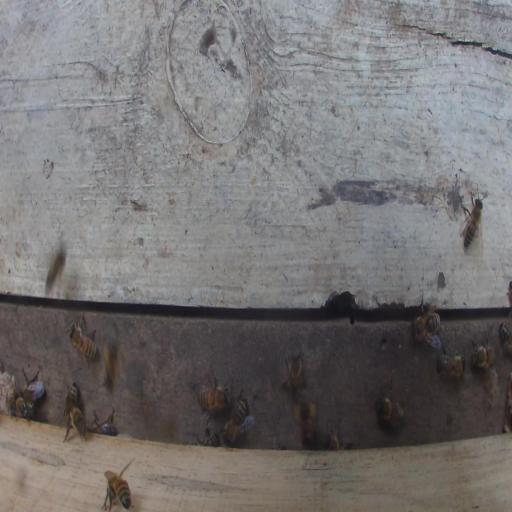nonpollenbee: (44, 239, 66, 295), (69, 322, 100, 361), (224, 396, 246, 448), (197, 384, 231, 415), (103, 473, 131, 510), (465, 197, 483, 250), (63, 405, 85, 443), (377, 397, 404, 424), (436, 354, 464, 379), (288, 350, 302, 400), (412, 313, 441, 335), (9, 396, 35, 419), (19, 381, 44, 402), (65, 383, 78, 422), (474, 345, 495, 367), (500, 322, 512, 358), (91, 423, 118, 435), (200, 432, 218, 448), (326, 432, 339, 450)
pollenbee: (294, 388, 316, 446), (102, 337, 121, 390)
